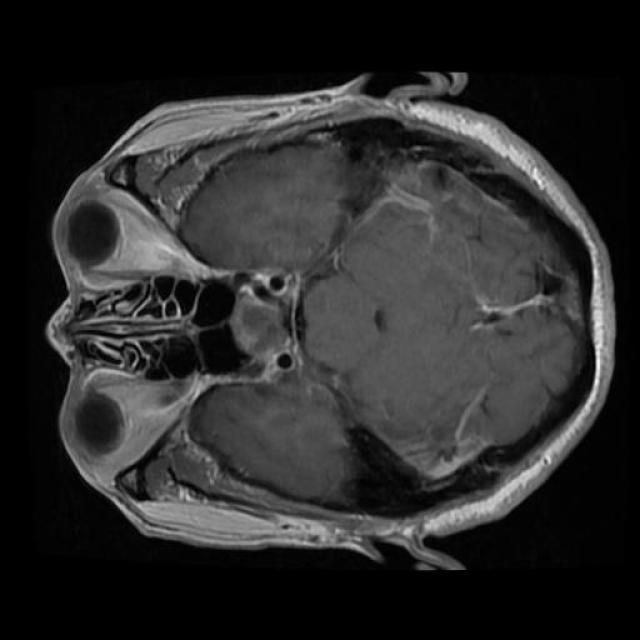Pituitary: (227, 272, 296, 373)
